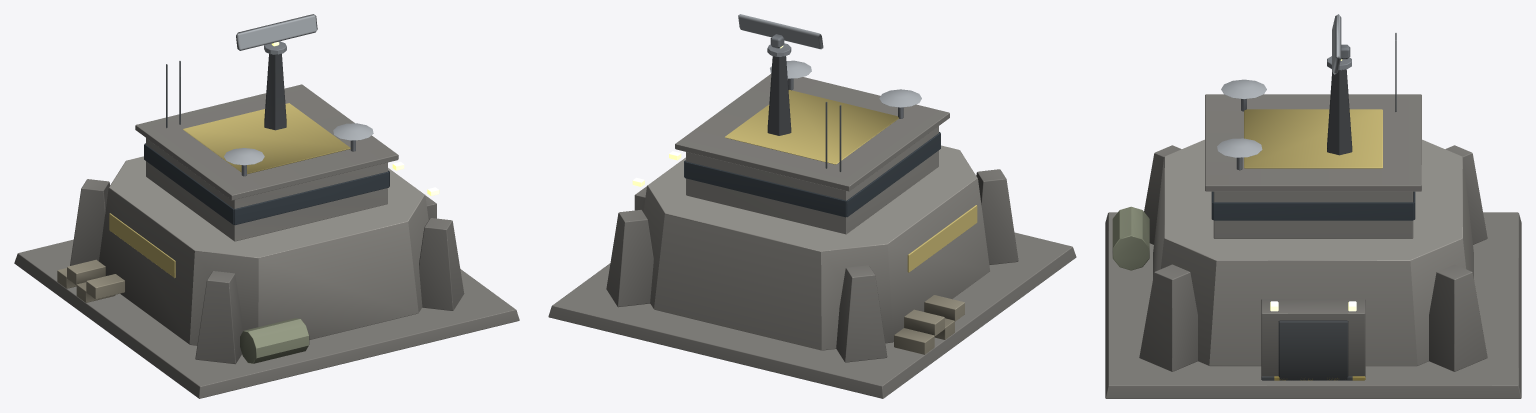
The model's file is command_hq.glb.
3 renders of one model, left to right at view 1: azimuth 30°, elevation 25°; view 2: azimuth 150°, elevation 25°; view 3: azimuth 270°, elevation 25°, orthographic. The views are drawn at different scales.
Visible parts, largest first — view 1: Body, Radar; view 2: Body, Radar; view 3: Body, Radar.
Part boxes in pixels (x1,y1,x2,y2): Body: (14,41,519,398); Radar: (236,14,317,50); Body: (548,43,1076,398); Radar: (738,14,823,49); Body: (1105,33,1521,398); Radar: (1332,14,1350,74).
Size of the model in its own units: 9.59 by 7.31 by 9.59.
